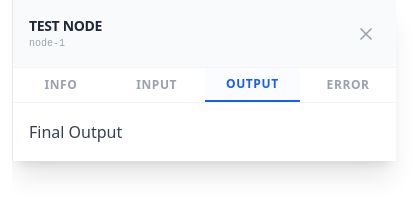
NodeDetailSidebar › switches between tabs
The image size is (413, 216).
Check: the text "Final Output" is shown, box [29,121,122,143]
// Switch to input
Click the button "input": (157, 85) [109,68,205,102]
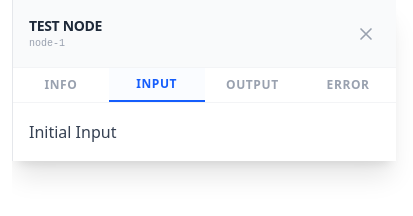
Check: the text "Initial Input" is shown, box [29,121,116,143]
// Switch to error
Click the button "error": (348, 85) [300,68,396,102]
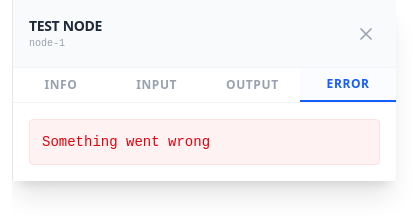
Check: the text "Something went wrong" is shown, box [29,119,380,165]
